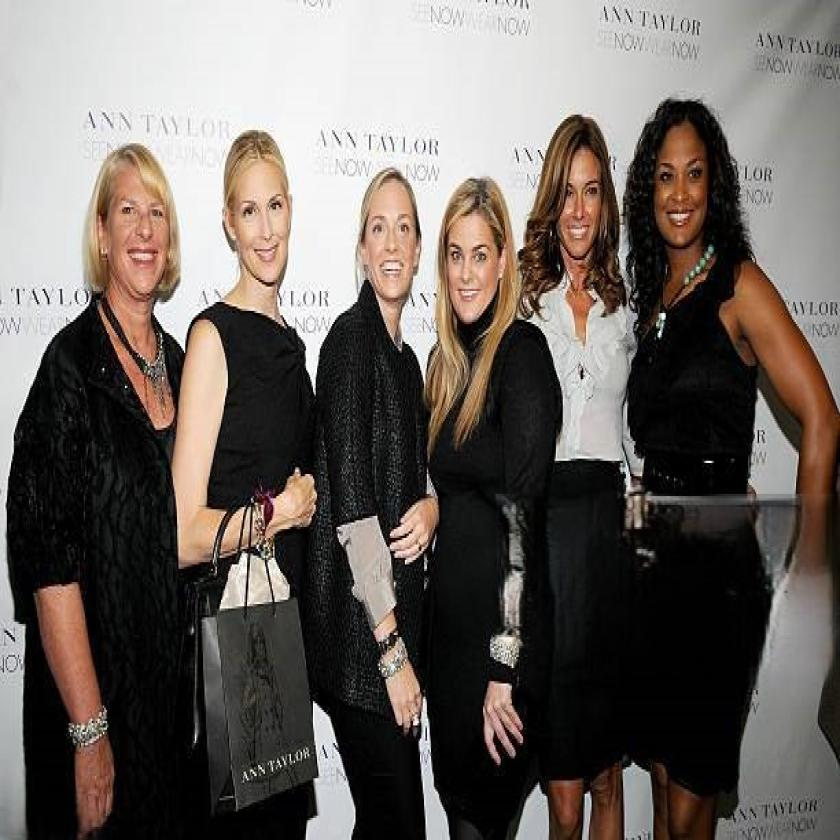Sin_casco: (632, 94, 752, 281), (78, 129, 190, 329), (214, 111, 301, 303), (528, 107, 618, 292), (341, 149, 427, 316), (435, 164, 519, 329)
